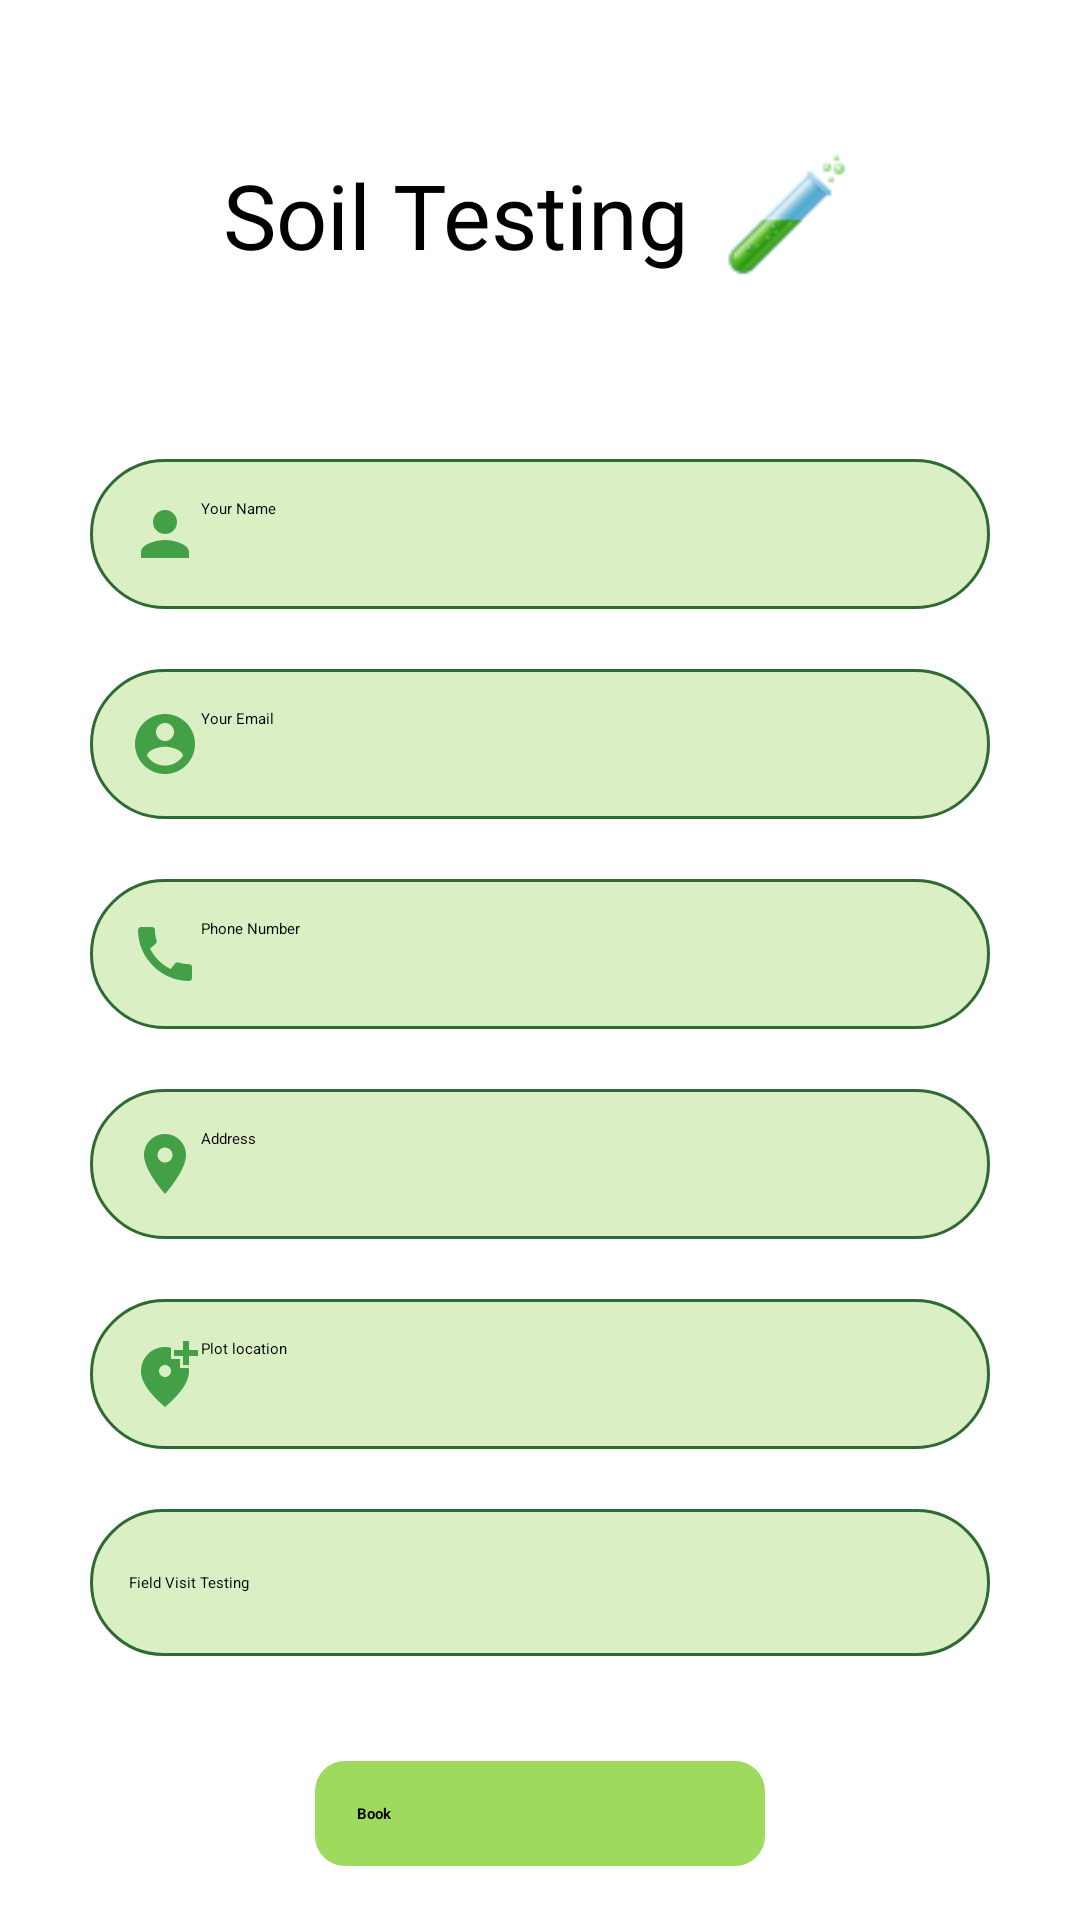

Named icons in this screenshot (1080w x 1920h) and their centers, (x=x, y=y):
testube: (x=786, y=215)
